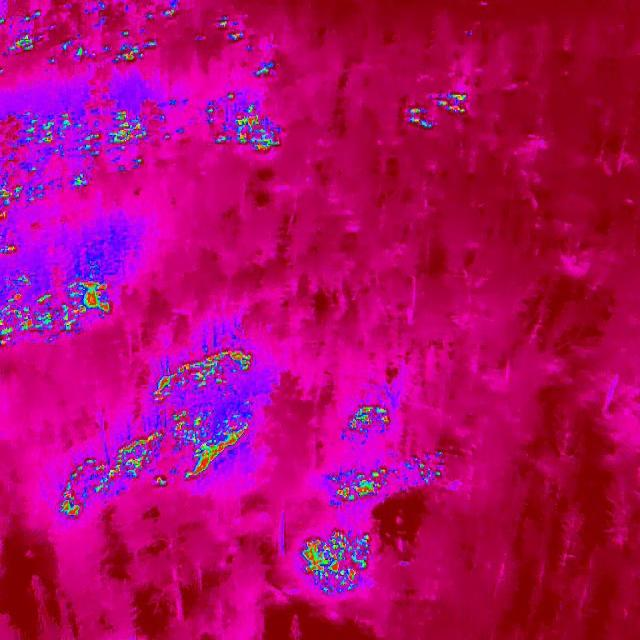fire: (150, 344, 262, 490), (0, 105, 148, 205), (0, 0, 186, 75), (0, 270, 116, 349), (55, 432, 153, 518), (320, 449, 450, 507), (196, 86, 288, 156), (304, 527, 374, 595), (402, 91, 478, 138), (342, 401, 390, 442), (218, 12, 248, 42), (0, 206, 18, 256), (250, 61, 272, 81)
